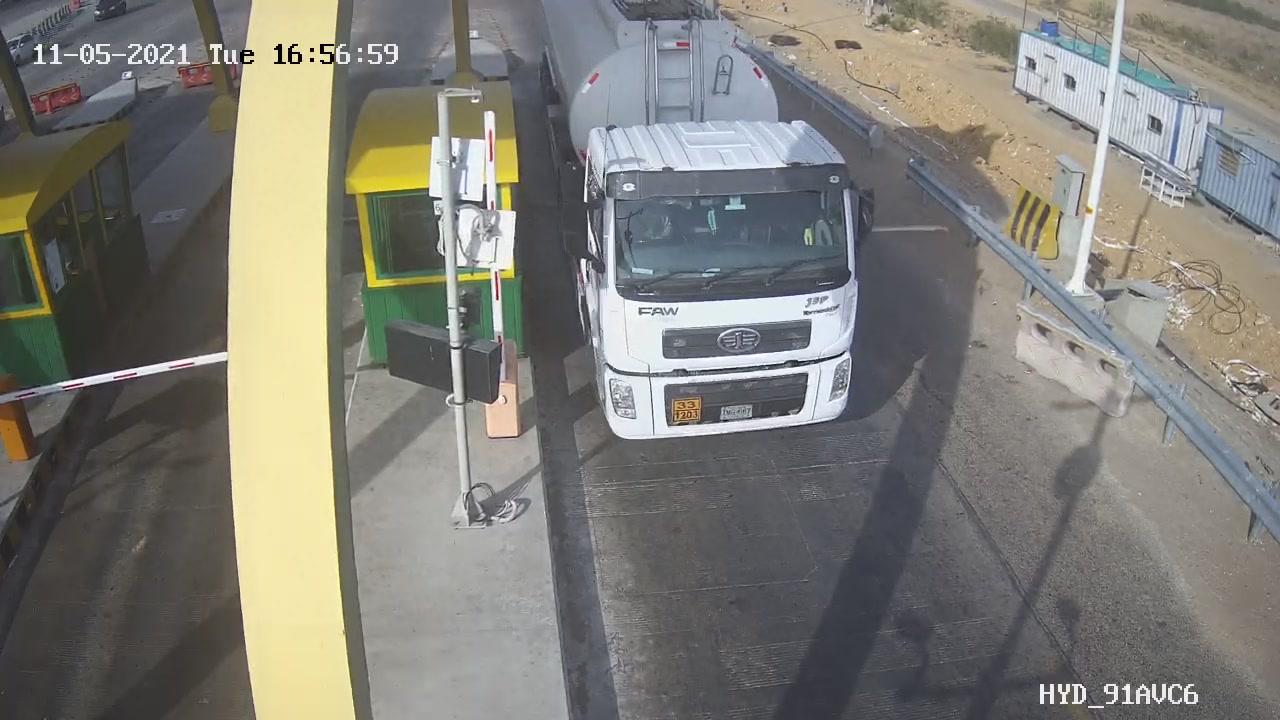F6: (520, 1, 912, 472)
